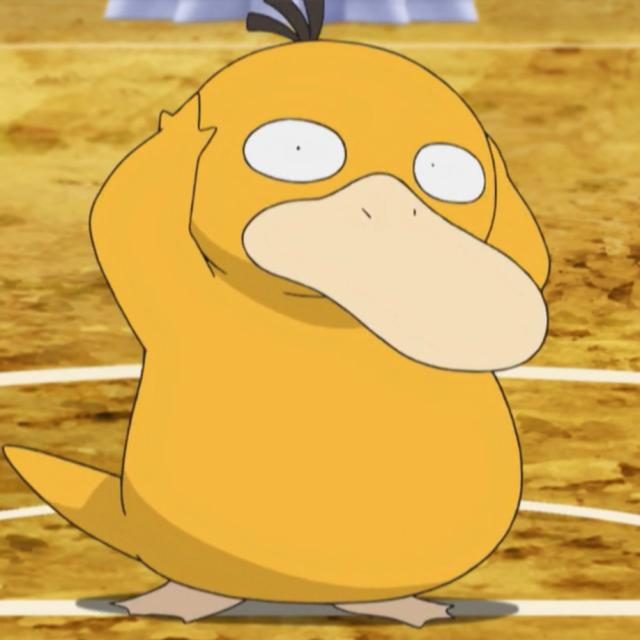Psyduck: (95, 39, 549, 620)
